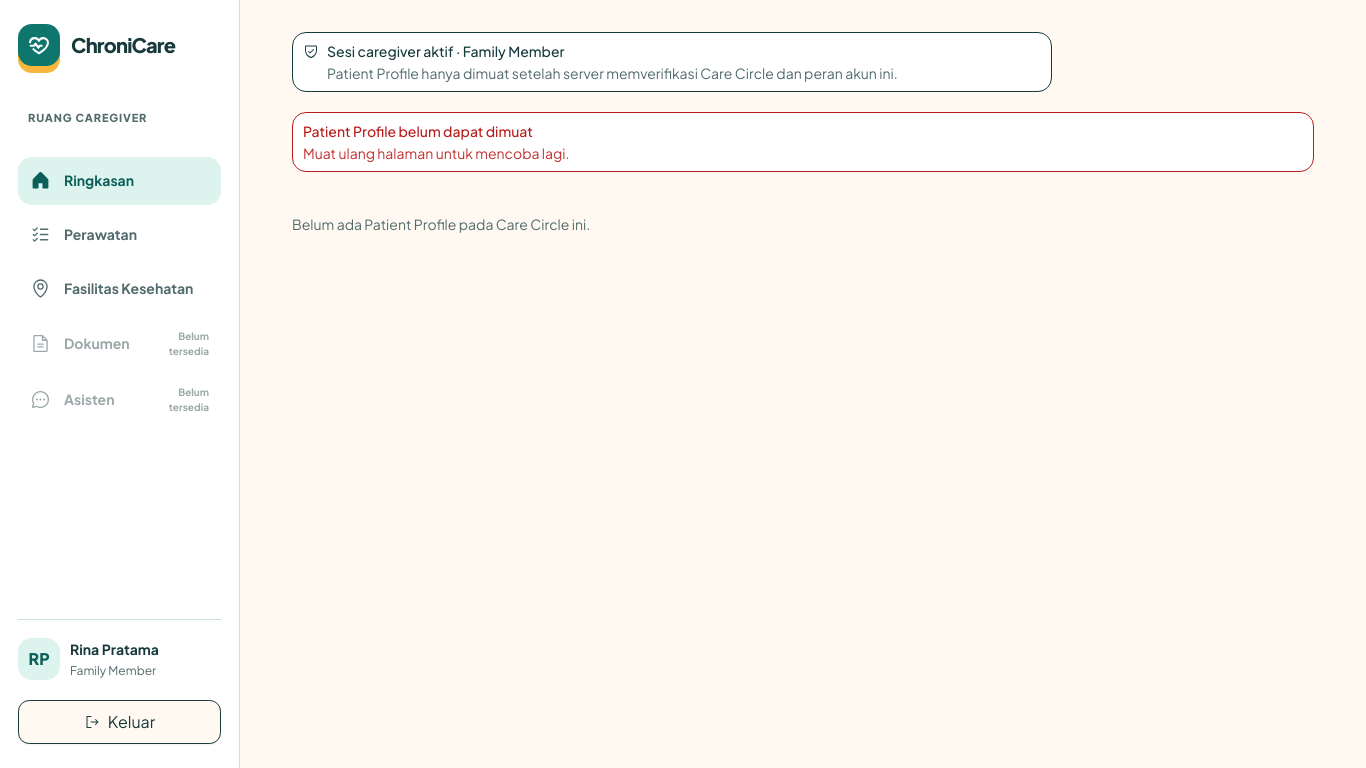
Test case: caregiver auth panel › clears the verified context after logout
Expected: the text "Rina Pratama" is shown, [70,638,159,660]
Click the button "Keluar": (120, 722) [18,700,221,744]
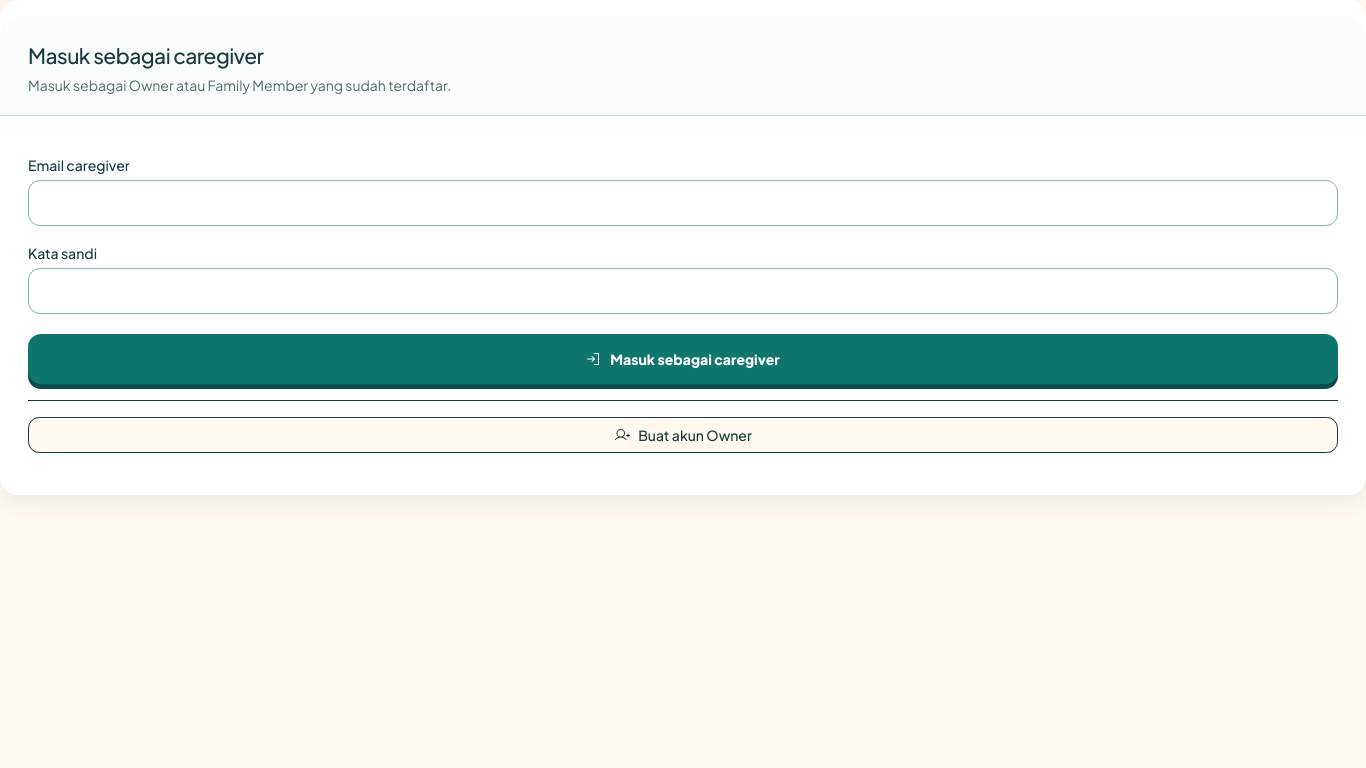
Result: the field labelled "Email caregiver" is shown at [28,180,1338,226]
